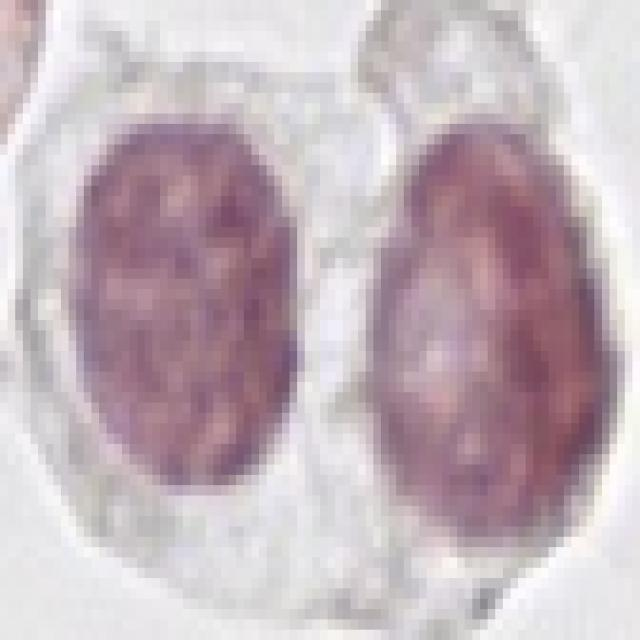cytoplasm: (0, 0, 632, 630)
nucleus: (52, 108, 310, 508)
